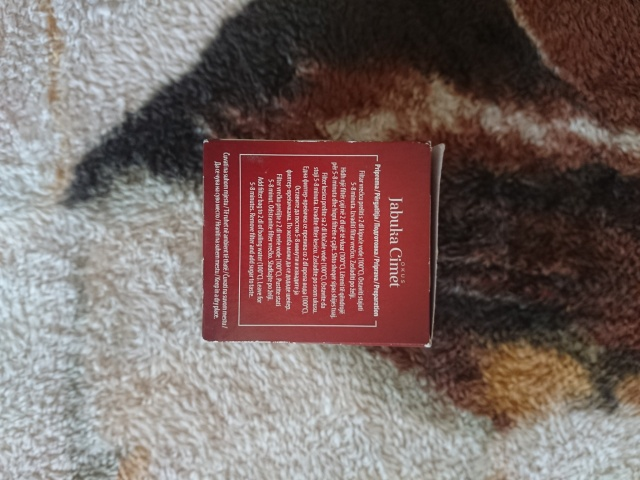Franck Apple Cinnamon Tea 60g: (198, 135, 448, 351)
